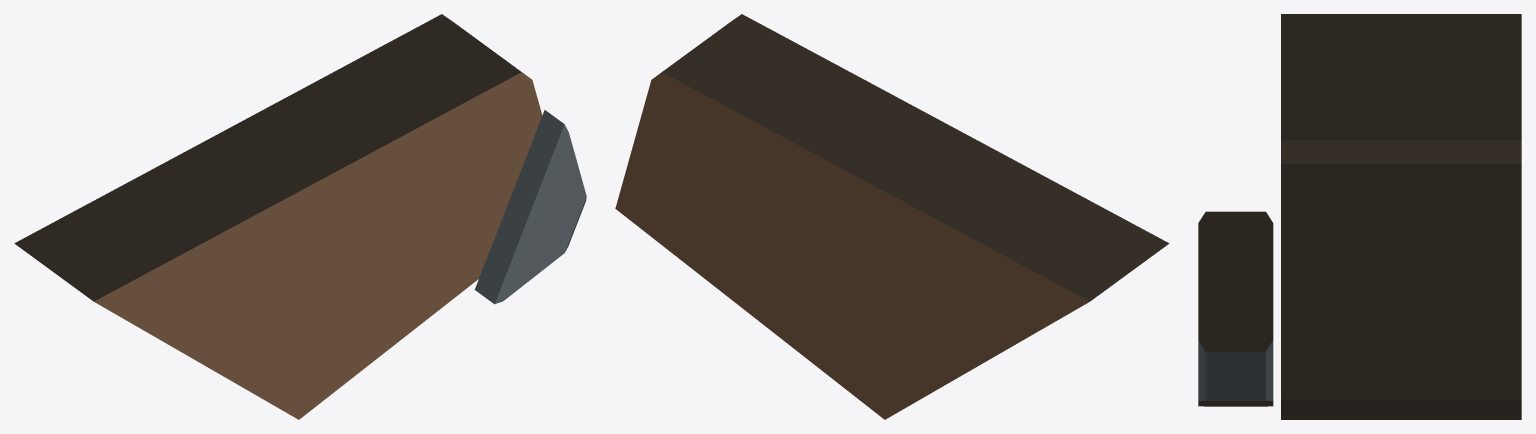
The model's file is SM_DoorShard_01_05.fbx.
The picture shows the model from 3 angles, left to right: view 1: azimuth 30°, elevation 25°; view 2: azimuth 150°, elevation 25°; view 3: azimuth 270°, elevation 25°; orthographic projection. The views are drawn at different scales.
Parts seen in each view (by area): view 1: SM_DoorShard_01_05; view 2: SM_DoorShard_01_05; view 3: SM_DoorShard_01_05.
Part boxes in pixels (bbox=[...]): SM_DoorShard_01_05: bbox=[14, 14, 586, 419]; SM_DoorShard_01_05: bbox=[615, 14, 1169, 419]; SM_DoorShard_01_05: bbox=[1198, 14, 1521, 419].
Bounding box in the file's own units: 55.08 × 21.5 × 32.53.
